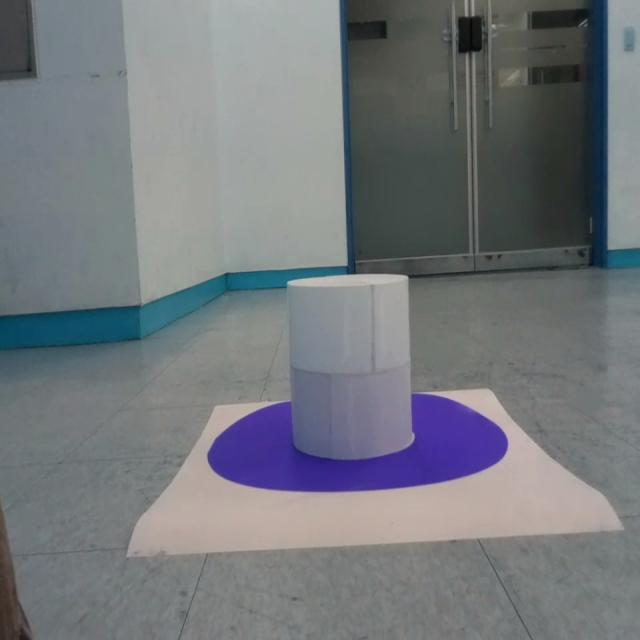cylinder: (287, 274, 414, 461)
